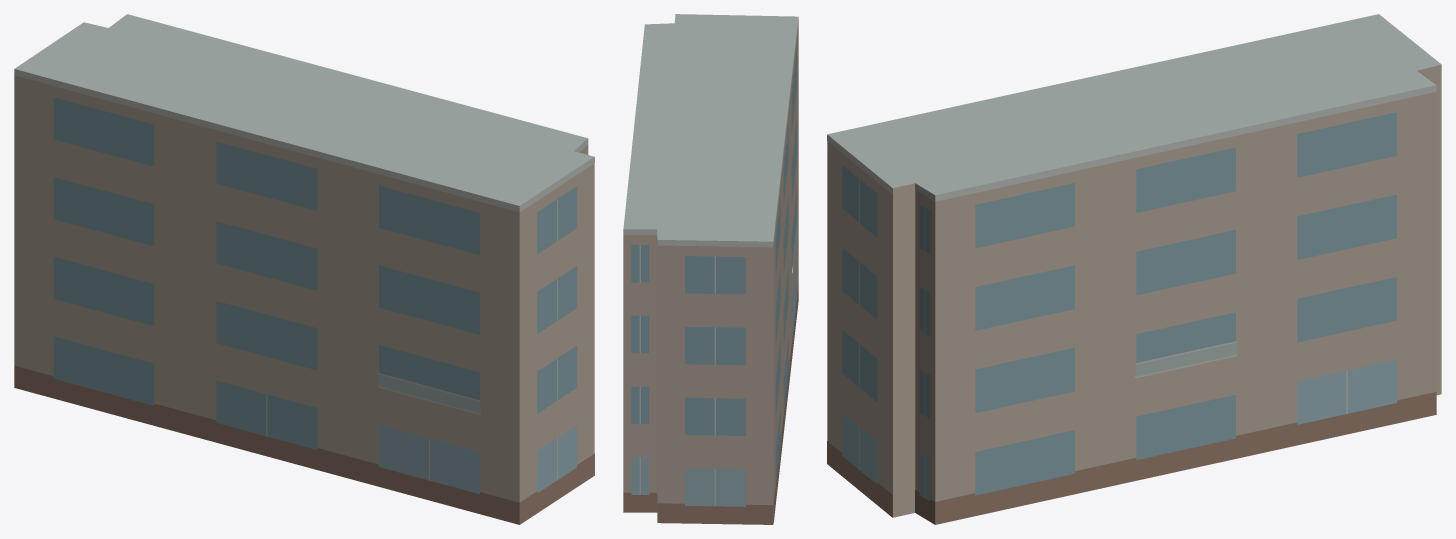
The model's file is survey-upis-32631734.glb.
3 renders of one model, left to right at view 1: azimuth 30°, elevation 25°; view 2: azimuth 150°, elevation 25°; view 3: azimuth 270°, elevation 25°, orthographic. The views are drawn at different scales.
Visible parts, largest first — view 1: survey-upis-32631734.tmp; view 2: survey-upis-32631734.tmp; view 3: survey-upis-32631734.tmp.
Part boxes in pixels (<box>): survey-upis-32631734.tmp: <box>14,14,594,524</box>; survey-upis-32631734.tmp: <box>623,14,798,524</box>; survey-upis-32631734.tmp: <box>827,14,1441,524</box>.
Size of the model in its own units: 14.4 by 12.2 by 20.63.
